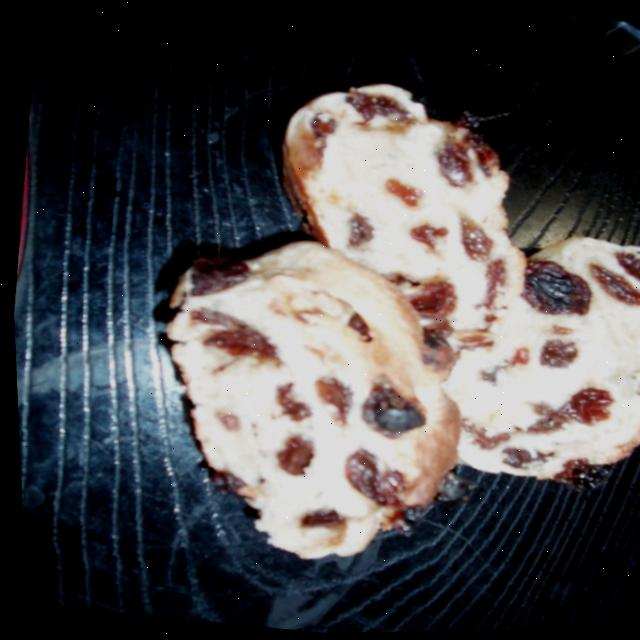面包点心: (116, 51, 640, 626)
